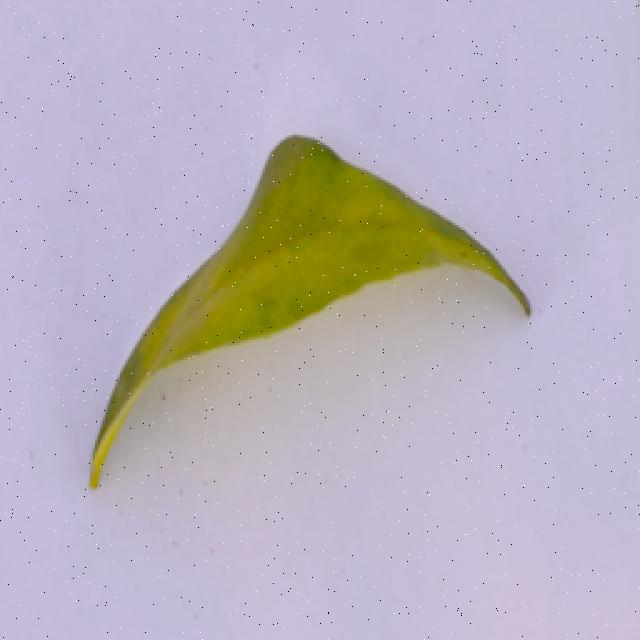greening: (69, 115, 561, 541)
